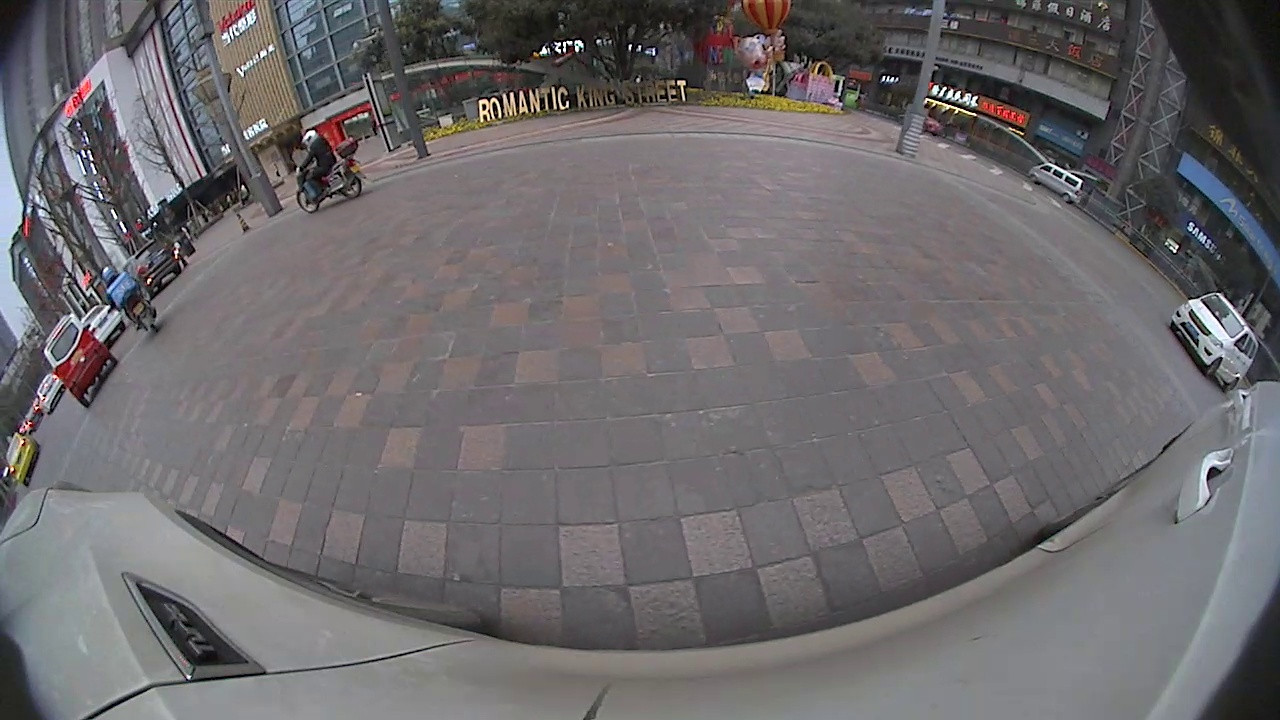car: (1170, 294, 1259, 391), (1030, 164, 1083, 204), (135, 240, 183, 283)
front: (293, 189, 323, 215), (1203, 355, 1225, 382), (1025, 171, 1042, 187)
rear: (337, 177, 364, 201), (1222, 376, 1242, 398), (1059, 193, 1075, 206)
rider: (46, 317, 115, 407), (293, 132, 364, 212), (102, 265, 158, 329)
